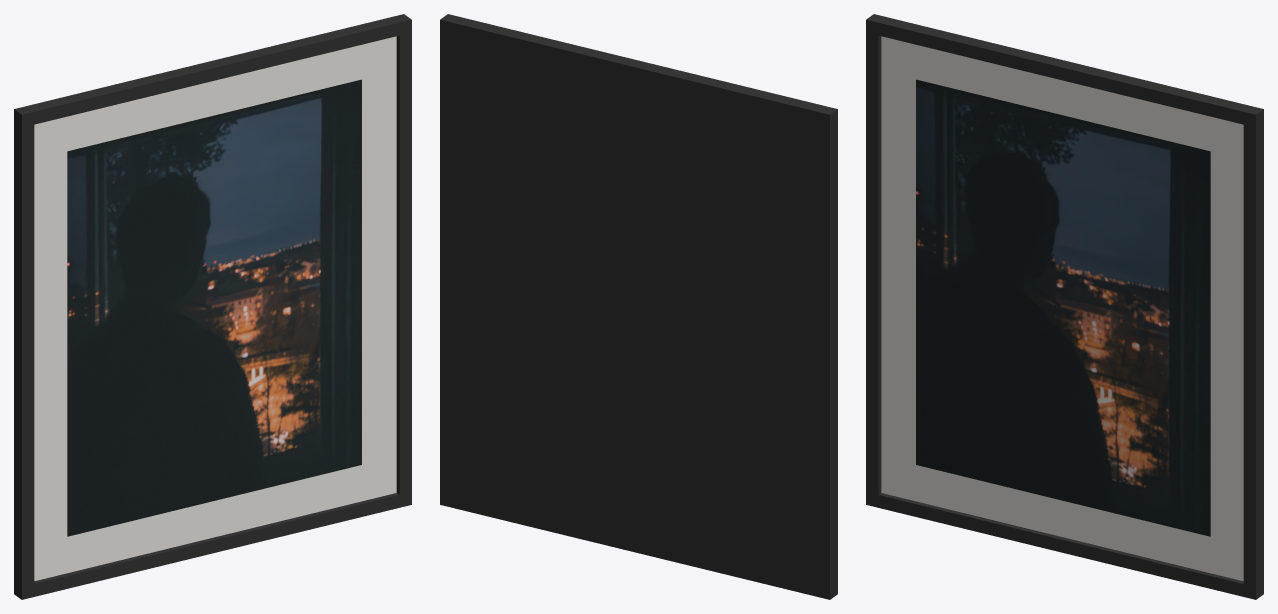
The model's file is utsikten-60.gltf.
3 renders of one model, left to right at view 1: azimuth 30°, elevation 25°; view 2: azimuth 150°, elevation 25°; view 3: azimuth 330°, elevation 25°, orthographic.
Parts seen in each view (by area): view 1: tavla; view 2: tavla; view 3: tavla.
Part boxes in pixels (left/top/right/bottom): tavla: left=14, top=14, right=411, bottom=599; tavla: left=440, top=14, right=837, bottom=599; tavla: left=866, top=14, right=1263, bottom=599.
Size of the model in its own units: 0.6352 by 0.7552 by 0.022.
Materials: 3 (1 with a texture image).
